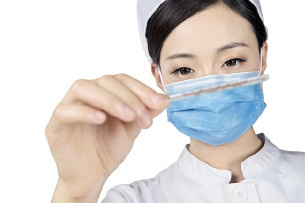Mask: (163, 43, 264, 144)
